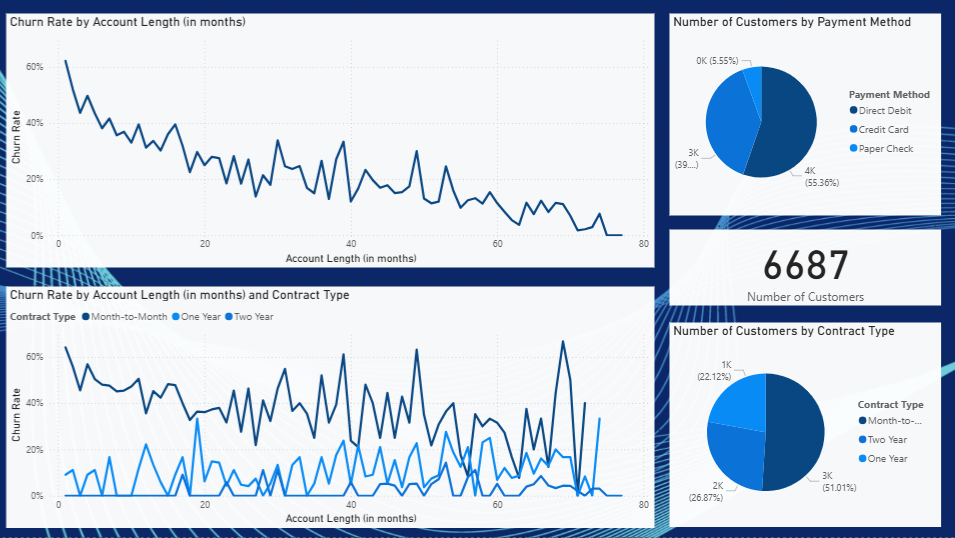

Layout of this report page (visuals, bound fields, positions):
{"tool":"powerbi","page":{"name":"Contract Type and Payment Method","canvas":[1280,720],"ordinal":10},"visuals":[{"type":"lineChart","fields":{"Category":["Databel - Data.Account Length (in months)"],"Y":["Databel - Data.Churn Rate"]},"box":[10.1,21.9,864,338.5],"z":0},{"type":"lineChart","fields":{"Category":["Databel - Data.Account Length (in months)"],"Y":["Databel - Data.Churn Rate"],"Series":["Databel - Data.Contract Type"]},"box":[10.1,385.7,864,321.7],"z":1000},{"type":"pieChart","fields":{"Y":["Databel - Data.Number of Customers"],"Category":["Databel - Data.Payment Method"]},"box":[894.3,21.9,362.1,269.5],"z":2000},{"type":"card","fields":{"Values":["Databel - Data.Number of Customers"]},"box":[894.3,309.9,362.1,101.1],"z":3000},{"type":"pieChart","fields":{"Y":["Databel - Data.Number of Customers"],"Category":["Databel - Data.Contract Type"]},"box":[894.3,434.5,362.1,272.8],"z":4000}]}

Visuals, with their boxes in screenshot pixels (x1, y1, x2, y2), scaled from the page's 1280x720 canvas onto the 955x538 screenshot:
lineChart - Databel - Data.Account Length (in months) x Databel - Data.Churn Rate: [x1=8, y1=16, x2=652, y2=269]
lineChart - Databel - Data.Account Length (in months) x Databel - Data.Churn Rate: [x1=8, y1=288, x2=652, y2=529]
pieChart - Databel - Data.Number of Customers x Databel - Data.Payment Method: [x1=667, y1=16, x2=937, y2=218]
card - Databel - Data.Number of Customers: [x1=667, y1=232, x2=937, y2=307]
pieChart - Databel - Data.Number of Customers x Databel - Data.Contract Type: [x1=667, y1=325, x2=937, y2=529]
